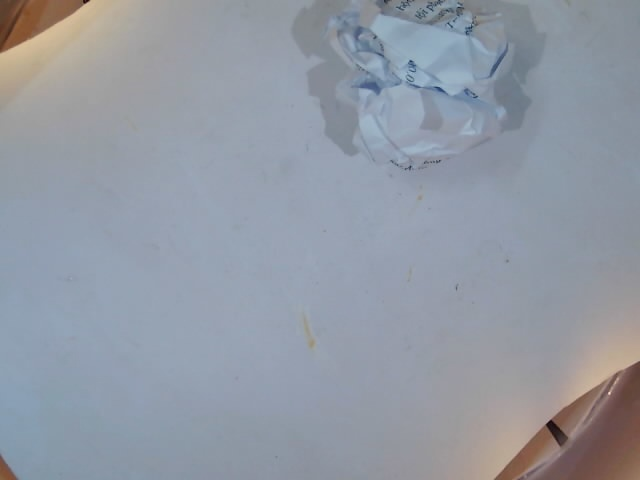paper: (284, 0, 541, 178)
